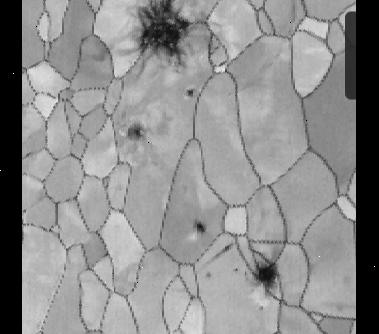good_void: (116, 0, 197, 72), (245, 251, 279, 298), (119, 122, 143, 147), (212, 242, 235, 260), (193, 212, 210, 235), (256, 302, 267, 313), (186, 86, 195, 99), (205, 270, 216, 279), (233, 265, 242, 275), (23, 207, 29, 214)
